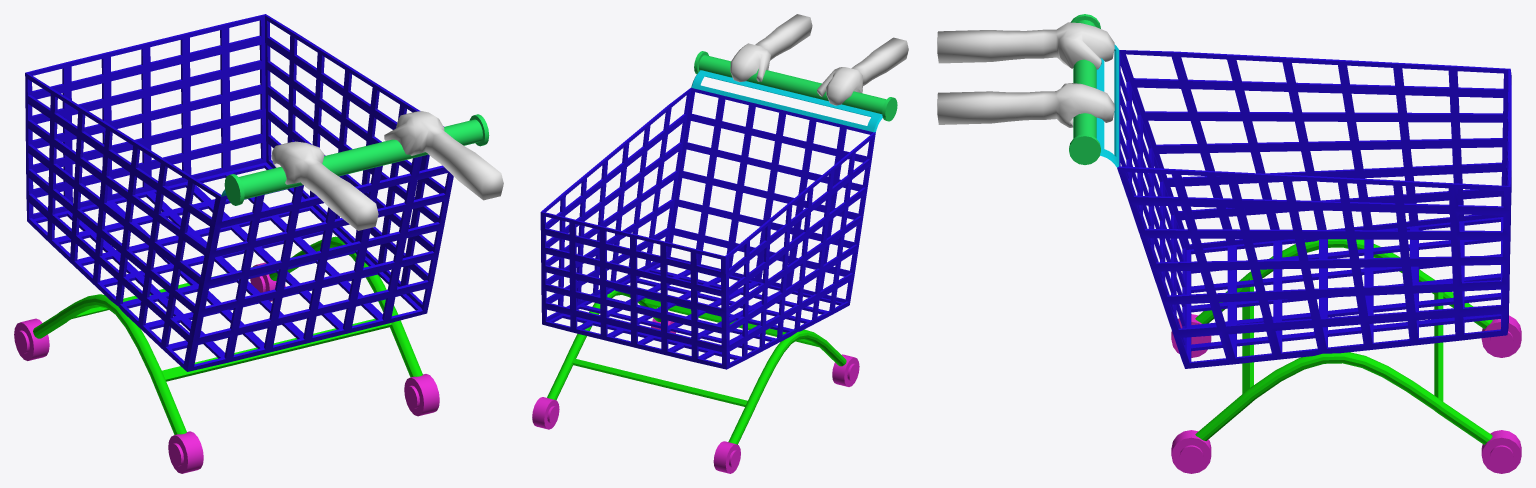
Rendered from SM_Carro.fbx.
The picture shows the model from 3 angles, left to right: view 1: azimuth 30°, elevation 25°; view 2: azimuth 150°, elevation 25°; view 3: azimuth 270°, elevation 25°; orthographic projection. The views are drawn at different scales.
Visible parts, largest first — view 1: Carro, Manos_Oficial; view 2: Carro, Manos_Oficial; view 3: Carro, Manos_Oficial.
Boxes of the visible parts, x1,y1,x2,y2 form: Carro: [14, 14, 489, 473]; Manos_Oficial: [271, 111, 503, 230]; Carro: [532, 51, 897, 473]; Manos_Oficial: [730, 14, 908, 105]; Carro: [1069, 14, 1521, 473]; Manos_Oficial: [937, 22, 1114, 127].
Size of the model in its own units: 93.65 by 123 by 183.
